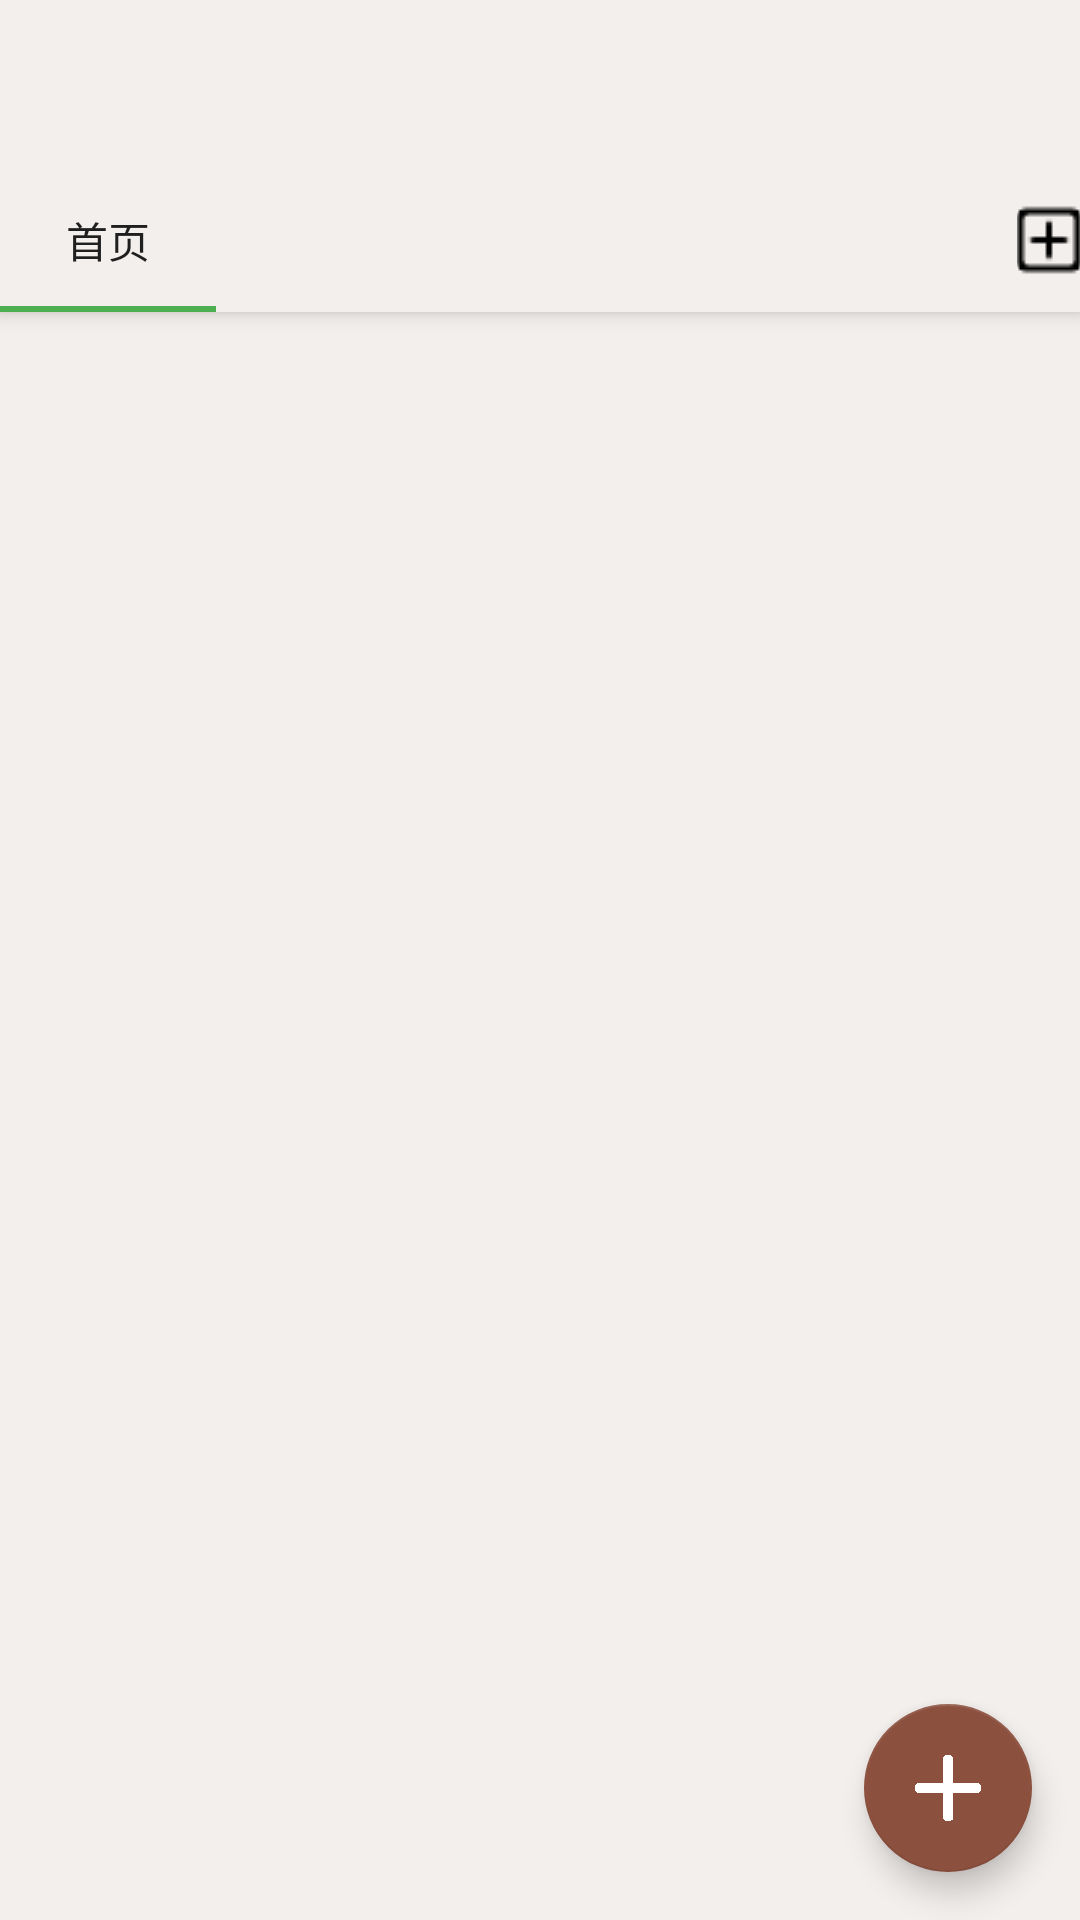

Icon bounding boxes for this 1080x1920 phone screenshot, format (x1, y1, x2, y2):
add: (864, 1704, 1032, 1872)
add group: (1017, 206, 1080, 274)
